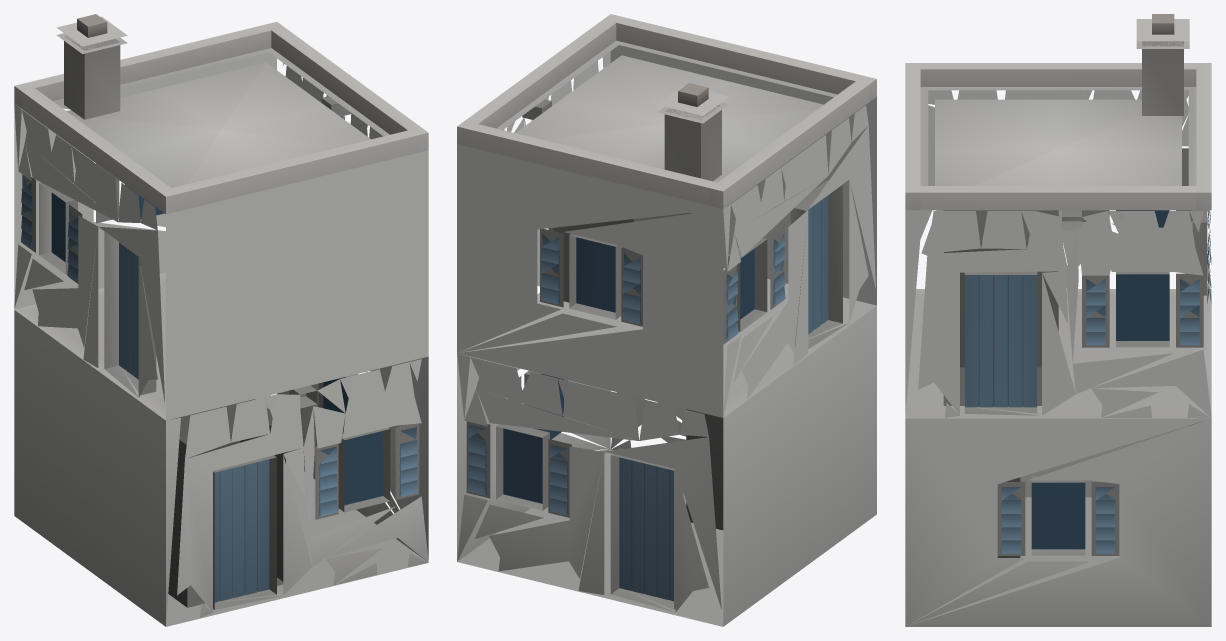
3 views of the same model, side by side, from view 1: azimuth 30°, elevation 25°; view 2: azimuth 150°, elevation 25°; view 3: azimuth 270°, elevation 25° (orthographic).
Parts seen in each view (by area): view 1: cube2; view 2: cube2; view 3: cube2.
Boxes of the visible parts, x1,y1,x2,y2 form: cube2: [14, 14, 428, 626]; cube2: [457, 14, 876, 626]; cube2: [905, 14, 1211, 626].
Bounding box in the file's own units: 4.4 × 8 × 4.4.
